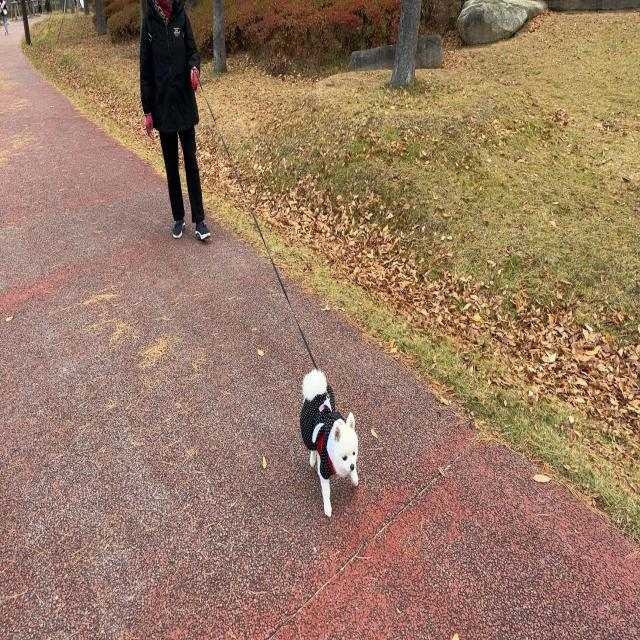Leashed_Dog: (181, 64, 359, 519)
